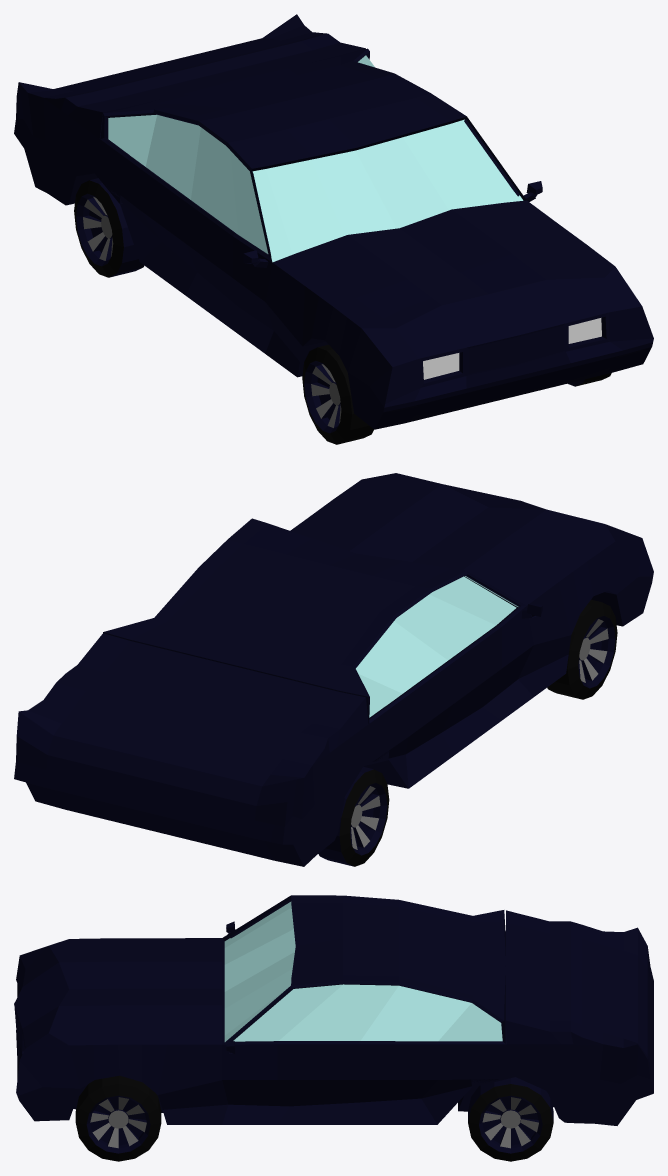
Rendered from Broom1.fbx.
3 renders of one model, top to bottom at view 1: azimuth 30°, elevation 25°; view 2: azimuth 150°, elevation 25°; view 3: azimuth 270°, elevation 25°, orthographic. The views are drawn at different scales.
Parts seen in each view (by area): view 1: Cube; view 2: Cube; view 3: Cube.
Boxes of the visible parts, x1,y1,x2,y2 form: Cube: (14, 14, 653, 444); Cube: (14, 473, 653, 866); Cube: (14, 895, 653, 1161).
Size of the model in its own units: 0.3402 by 0.2134 by 0.7372.
